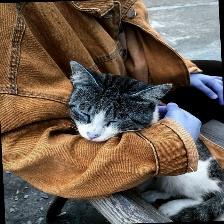kedo: (70, 61, 172, 143)
